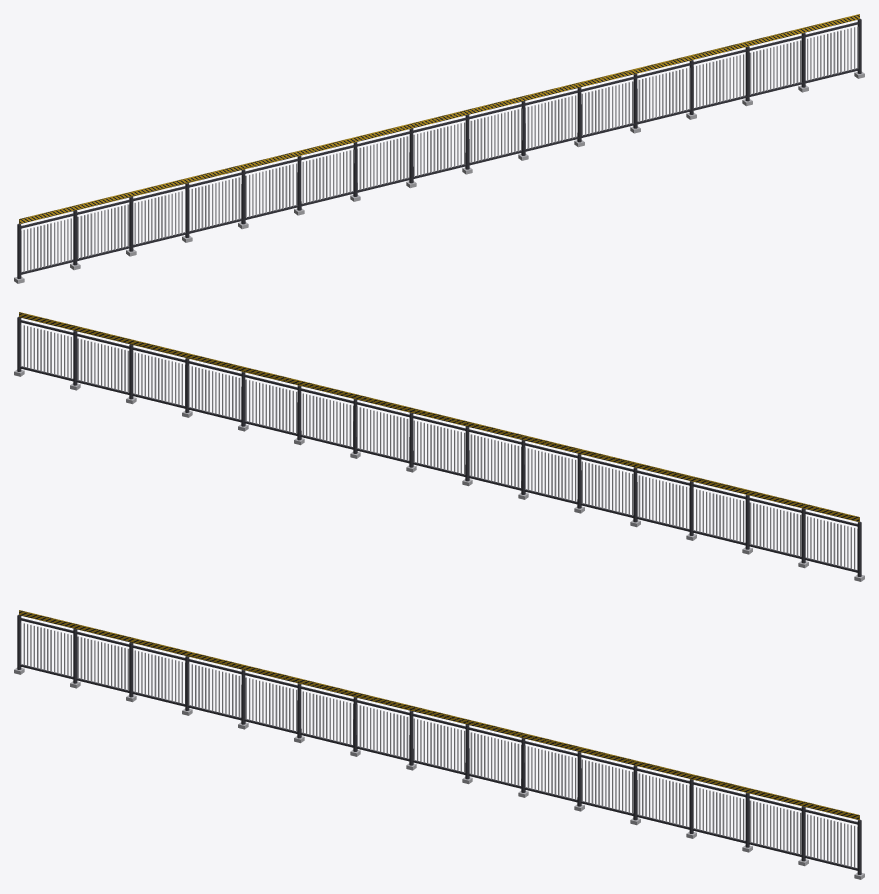
File: grade.glb
3 views of the same model, one above another, from view 1: azimuth 30°, elevation 25°; view 2: azimuth 150°, elevation 25°; view 3: azimuth 330°, elevation 25° (orthographic).
Size of the model in its own units: 40.32 by 2.84 by 0.3199.
4 materials, 1 textured.
